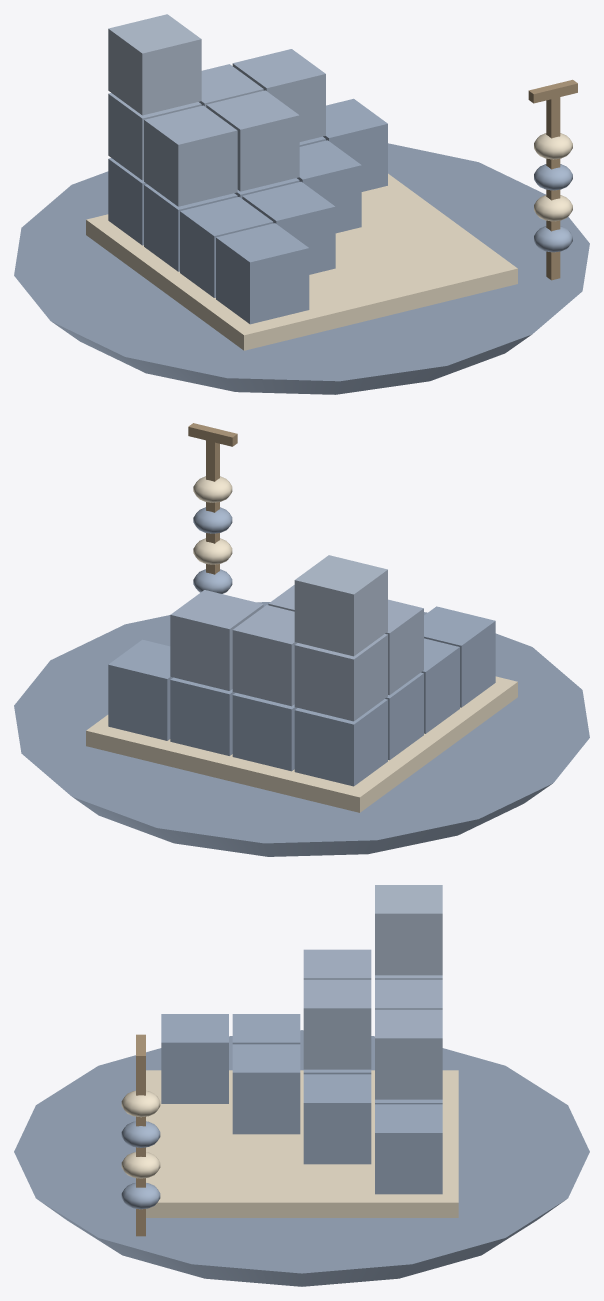
File: party_mg25_counting_tower.glb
The picture shows the model from 3 angles, top to bottom: view 1: azimuth 30°, elevation 25°; view 2: azimuth 150°, elevation 25°; view 3: azimuth 270°, elevation 25°; orthographic projection.
Visible parts, largest first — view 1: _MeshInstance3D_56, _MeshInstance3D_57, _MeshInstance3D_67, _MeshInstance3D_60, _MeshInstance3D_73, _MeshInstance3D_69, _MeshInstance3D_72, _MeshInstance3D_64, _MeshInstance3D_71, _MeshInstance3D_70, _MeshInstance3D_65, _MeshInstance3D_59 (+9 smaller); view 2: _MeshInstance3D_56, _MeshInstance3D_57, _MeshInstance3D_60, _MeshInstance3D_59, _MeshInstance3D_58, _MeshInstance3D_64, _MeshInstance3D_65, _MeshInstance3D_62, _MeshInstance3D_63, _MeshInstance3D_61, _MeshInstance3D_73, _MeshInstance3D_67 (+8 smaller); view 3: _MeshInstance3D_56, _MeshInstance3D_57, _MeshInstance3D_69, _MeshInstance3D_70, _MeshInstance3D_72, _MeshInstance3D_60, _MeshInstance3D_64, _MeshInstance3D_65, _MeshInstance3D_73, _MeshInstance3D_67, _MeshInstance3D_71, _MeshInstance3D_62 (+5 smaller).
Part boxes in pixels (box(x1,y1,x2,y2)): _MeshInstance3D_56: box(14, 143, 589, 394); _MeshInstance3D_57: box(86, 173, 517, 350); _MeshInstance3D_67: box(144, 105, 237, 206); _MeshInstance3D_60: box(108, 14, 201, 115); _MeshInstance3D_73: box(216, 223, 309, 324); _MeshInstance3D_69: box(206, 90, 299, 191); _MeshInstance3D_72: box(242, 181, 335, 274); _MeshInstance3D_64: box(232, 49, 325, 141); _MeshInstance3D_71: box(180, 197, 273, 297); _MeshInstance3D_70: box(297, 140, 361, 233); _MeshInstance3D_65: box(323, 98, 387, 191); _MeshInstance3D_59: box(108, 93, 201, 180); _MeshInstance3D_56: box(14, 602, 589, 856); _MeshInstance3D_57: box(86, 676, 517, 812); _MeshInstance3D_60: box(294, 555, 387, 656); _MeshInstance3D_59: box(294, 634, 387, 721); _MeshInstance3D_58: box(294, 699, 387, 786); _MeshInstance3D_64: box(170, 590, 263, 690); _MeshInstance3D_65: box(108, 639, 173, 740); _MeshInstance3D_62: box(232, 605, 297, 706); _MeshInstance3D_63: box(170, 677, 235, 755); _MeshInstance3D_61: box(232, 693, 297, 771); _MeshInstance3D_73: box(424, 606, 495, 707); _MeshInstance3D_67: box(385, 599, 423, 695); _MeshInstance3D_56: box(14, 1030, 589, 1286); _MeshInstance3D_57: box(146, 1070, 458, 1217); _MeshInstance3D_69: box(303, 979, 371, 1069); _MeshInstance3D_70: box(303, 1074, 371, 1164); _MeshInstance3D_72: box(232, 1044, 300, 1134); _MeshInstance3D_60: box(375, 885, 442, 975); _MeshInstance3D_64: box(375, 1009, 442, 1099); _MeshInstance3D_65: box(375, 1104, 442, 1194); _MeshInstance3D_73: box(161, 1014, 228, 1103); _MeshInstance3D_67: box(303, 949, 371, 979); _MeshInstance3D_71: box(232, 1014, 300, 1044); _MeshInstance3D_62: box(375, 979, 442, 1009).
Bounding box in the file's own units: 3.4 × 1.53 × 3.4.
